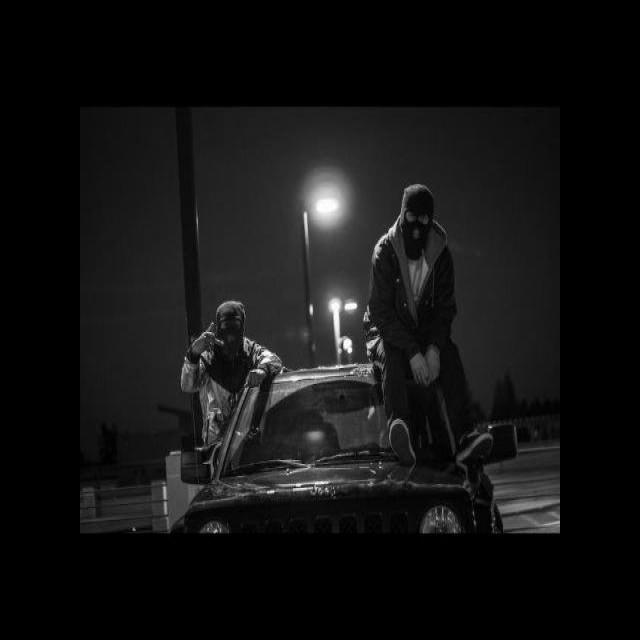6_pasamontana: (398, 185, 434, 258)
